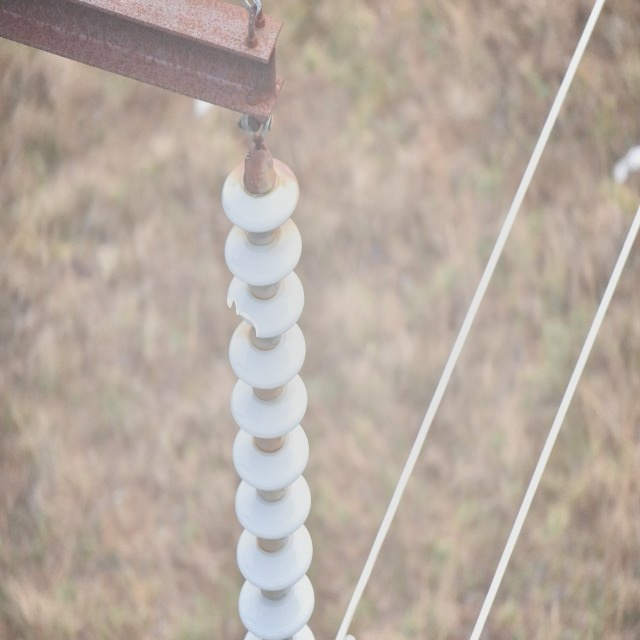broken: (223, 286, 261, 341)
insulator: (222, 159, 316, 640)
